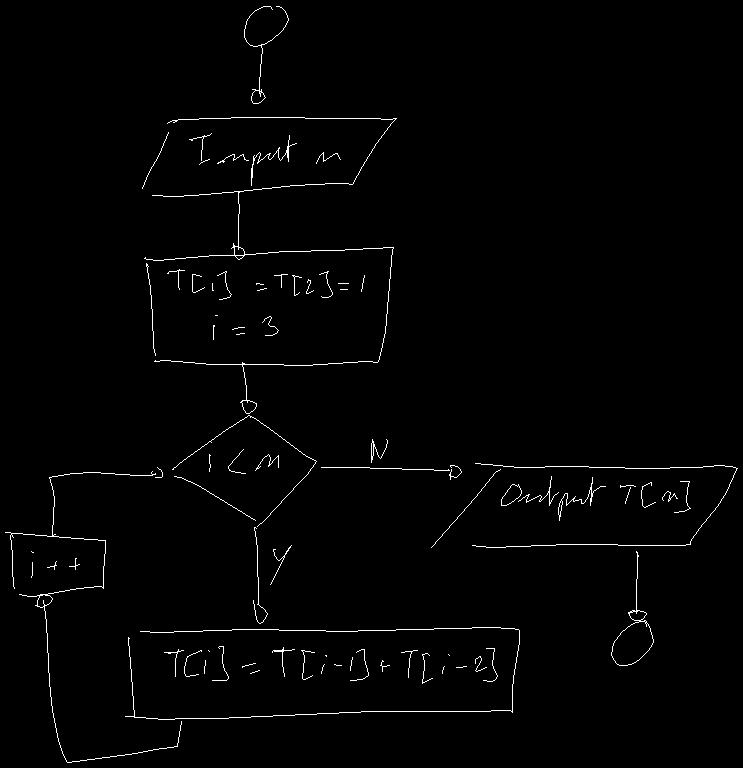arrow: (35, 594, 181, 762), (49, 467, 162, 535), (321, 465, 461, 479), (253, 527, 267, 623), (628, 551, 646, 620), (231, 192, 244, 259), (251, 44, 265, 103), (240, 362, 256, 413)
connection: (611, 620, 653, 665), (244, 6, 288, 46)
data: (431, 463, 737, 547), (142, 117, 396, 196)
decision: (172, 415, 316, 526)
process: (125, 627, 519, 719), (144, 247, 393, 365), (5, 532, 105, 596)
text: (167, 269, 364, 339), (164, 646, 497, 683), (501, 476, 690, 520), (189, 133, 340, 185), (209, 441, 278, 473), (31, 551, 79, 577), (270, 545, 291, 584), (371, 439, 387, 462)
